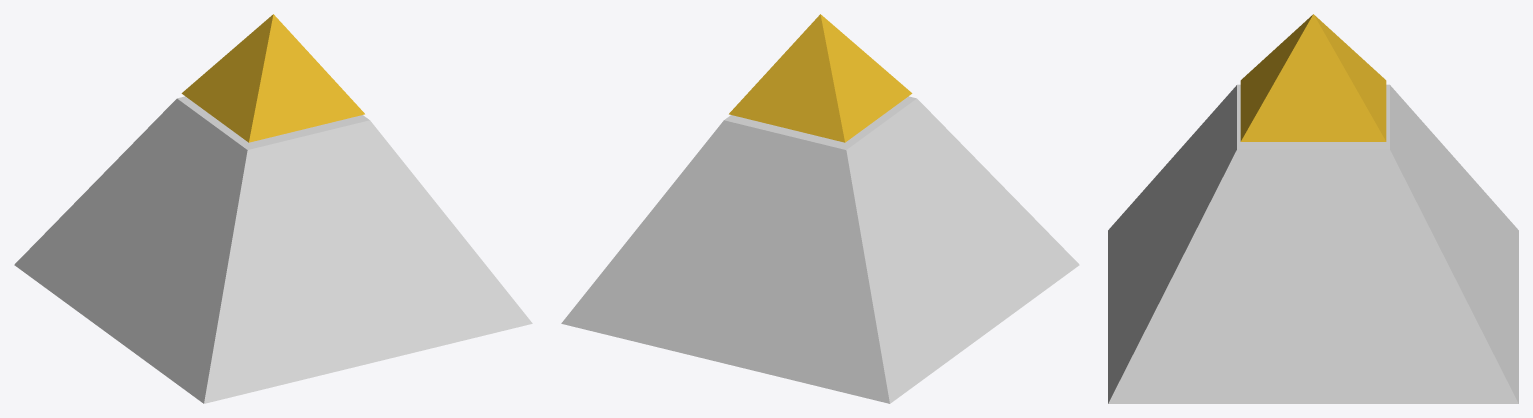
3 renders of one model, left to right at view 1: azimuth 30°, elevation 25°; view 2: azimuth 150°, elevation 25°; view 3: azimuth 270°, elevation 25°, orthographic. The views are drawn at different scales.
Parts seen in each view (by area): view 1: Cube.001, Cube; view 2: Cube.001, Cube; view 3: Cube.001, Cube.
Boxes of the visible parts, x1=… form: Cube.001: x1=14, y1=96, x2=532, y2=403; Cube: x1=181, y1=14, x2=364, y2=142; Cube.001: x1=561, y1=96, x2=1079, y2=403; Cube: x1=729, y1=14, x2=912, y2=142; Cube.001: x1=1108, y1=84, x2=1518, y2=403; Cube: x1=1240, y1=14, x2=1386, y2=141.
Size of the model in its own units: 6.83 by 5.56 by 6.83.
